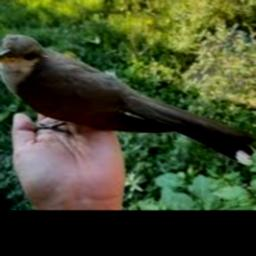Cuckoo: (0, 34, 255, 166)
